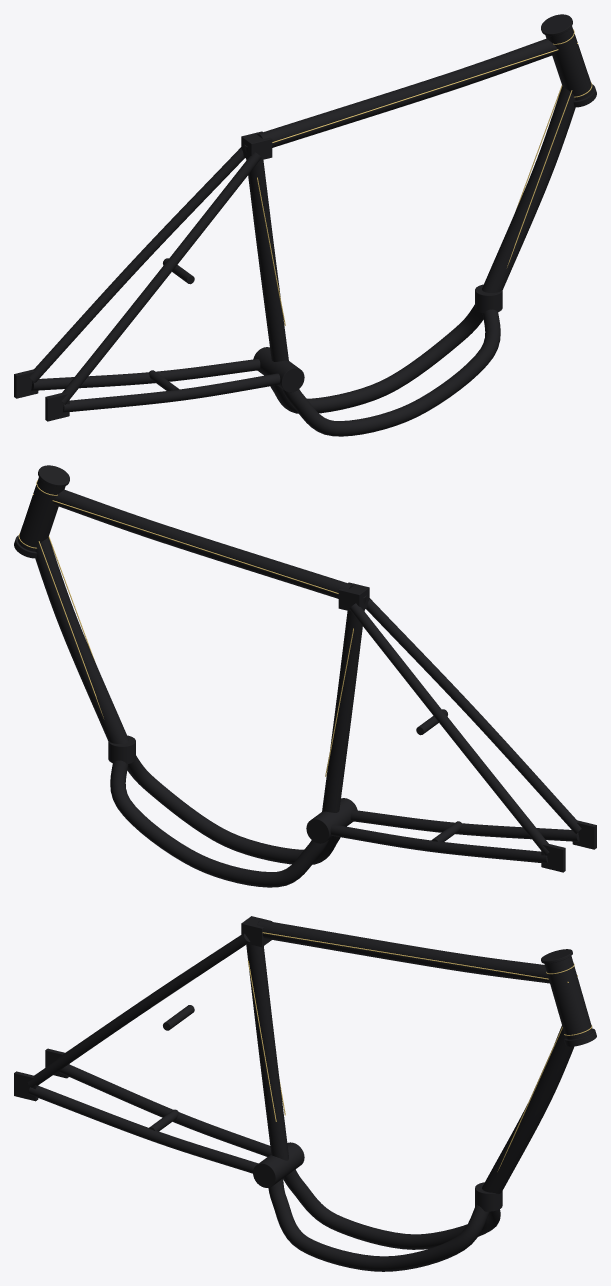
File: bike_pioneer__frame.glb
The picture shows the model from 3 angles, top to bottom: view 1: azimuth 30°, elevation 25°; view 2: azimuth 150°, elevation 25°; view 3: azimuth 330°, elevation 25°; orthographic projection.
Parts seen in each view (by area): view 1: frame_body__frame__tubes, frame_body__frame__head_tube, frame_body__frame__pinstripe; view 2: frame_body__frame__tubes, frame_body__frame__head_tube, frame_body__frame__pinstripe; view 3: frame_body__frame__tubes, frame_body__frame__head_tube, frame_body__frame__pinstripe.
Boxes of the visible parts, bbox=[...] form: frame_body__frame__tubes: bbox=[14, 38, 575, 436]; frame_body__frame__head_tube: bbox=[541, 14, 596, 107]; frame_body__frame__pinstripe: bbox=[257, 29, 592, 325]; frame_body__frame__tubes: bbox=[35, 489, 596, 887]; frame_body__frame__head_tube: bbox=[14, 465, 69, 558]; frame_body__frame__pinstripe: bbox=[18, 480, 353, 776]; frame_body__frame__tubes: bbox=[14, 916, 574, 1271]; frame_body__frame__head_tube: bbox=[541, 949, 596, 1046]; frame_body__frame__pinstripe: bbox=[248, 932, 592, 1171].
Size of the model in its own units: 113 by 67.22 by 13.42.
